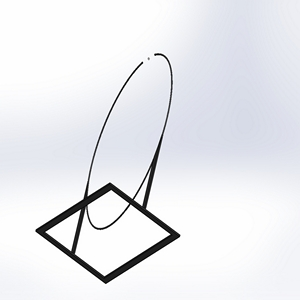circle: (34, 51, 182, 281)
